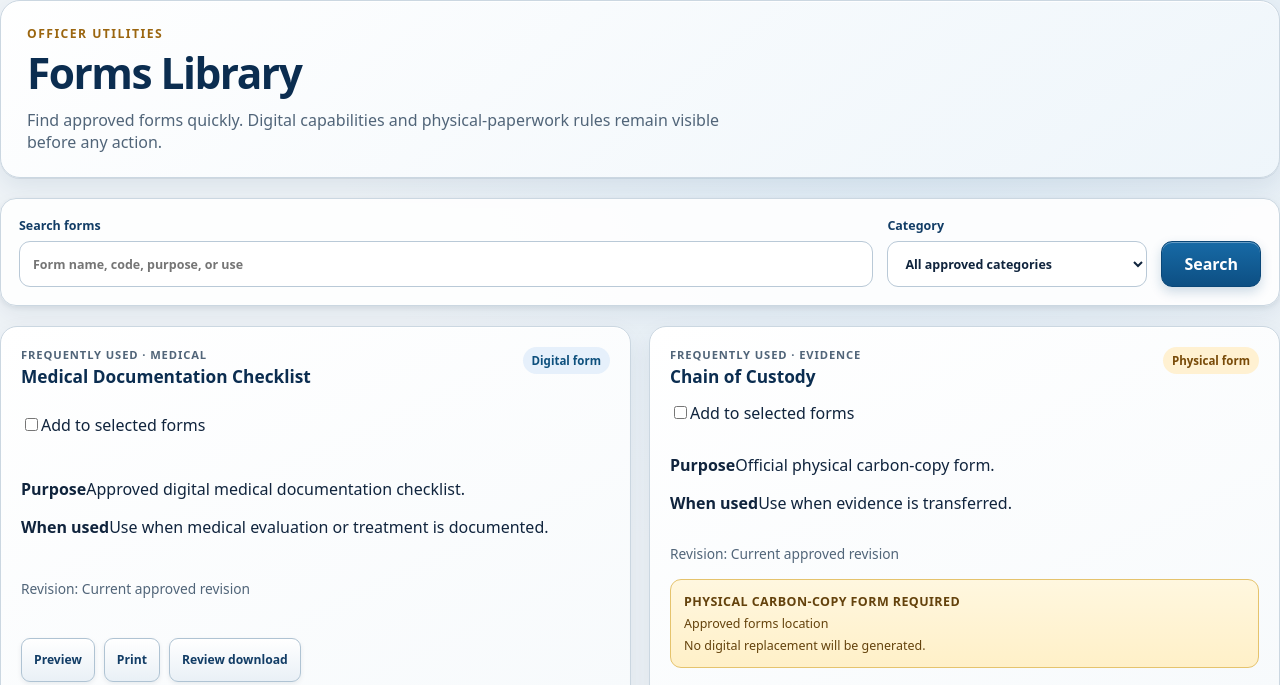
Scenario: Forms Library › previews selected forms in order and warns that physical forms are skipped
Expected: the heading "Medical Documentation Checklist" is shown, [21,365,311,388]
What coordinates should you click on to do the following:
click the 2nd checkbox labelled "Add to selected forms"
I would click on:
 (32, 424)
Its box is [25,418,38,431].
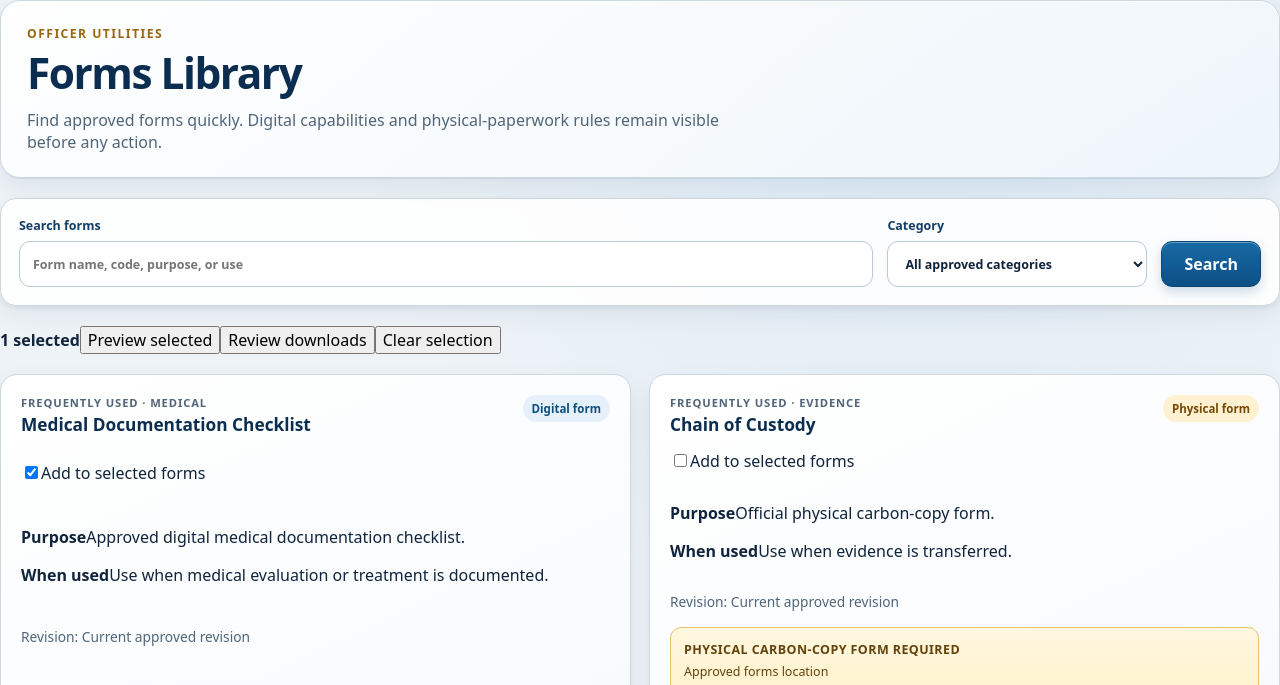
What coordinates should you click on to do the following:
click the checkbox labelled "Add to selected forms" below "Chain of Custody"
I would click on:
 (680, 460)
Its box is [674,454,687,467].
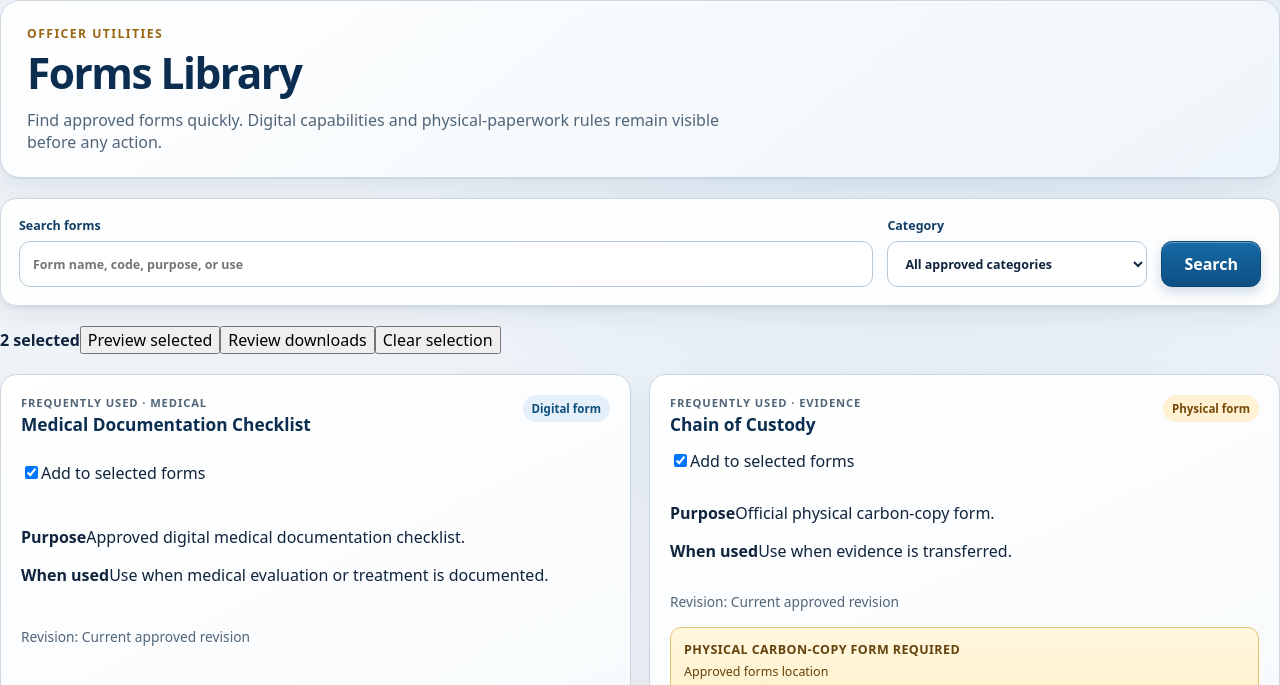
What coordinates should you click on to do the following:
click the button "Preview selected"
I would click on:
 (150, 340)
Its box is [80,326,220,354].
(page scrolled)
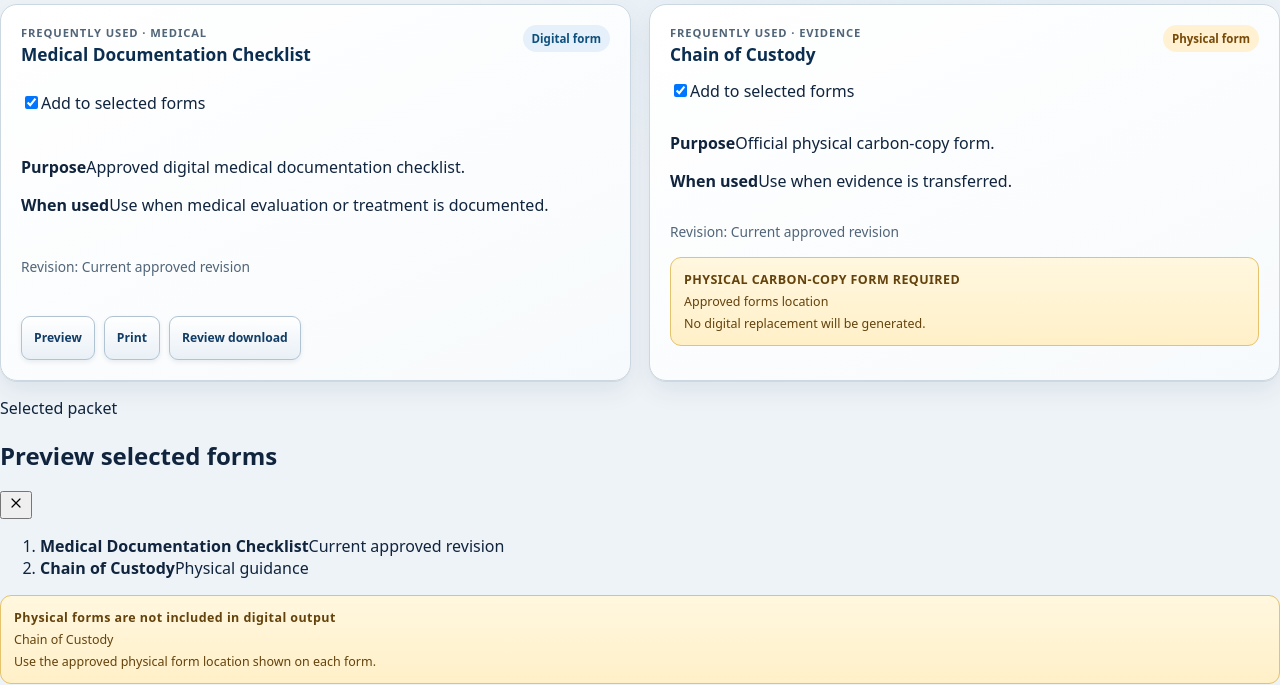
Now the list item that starts with "Medical Documentation Checklist" is shown, box [40,536,309,558]
Now the list item that starts with "Chain of Custody" is shown, box [40,558,175,580]
Now the text "Physical forms are not included in digital output" is shown, box [14,610,336,626]
